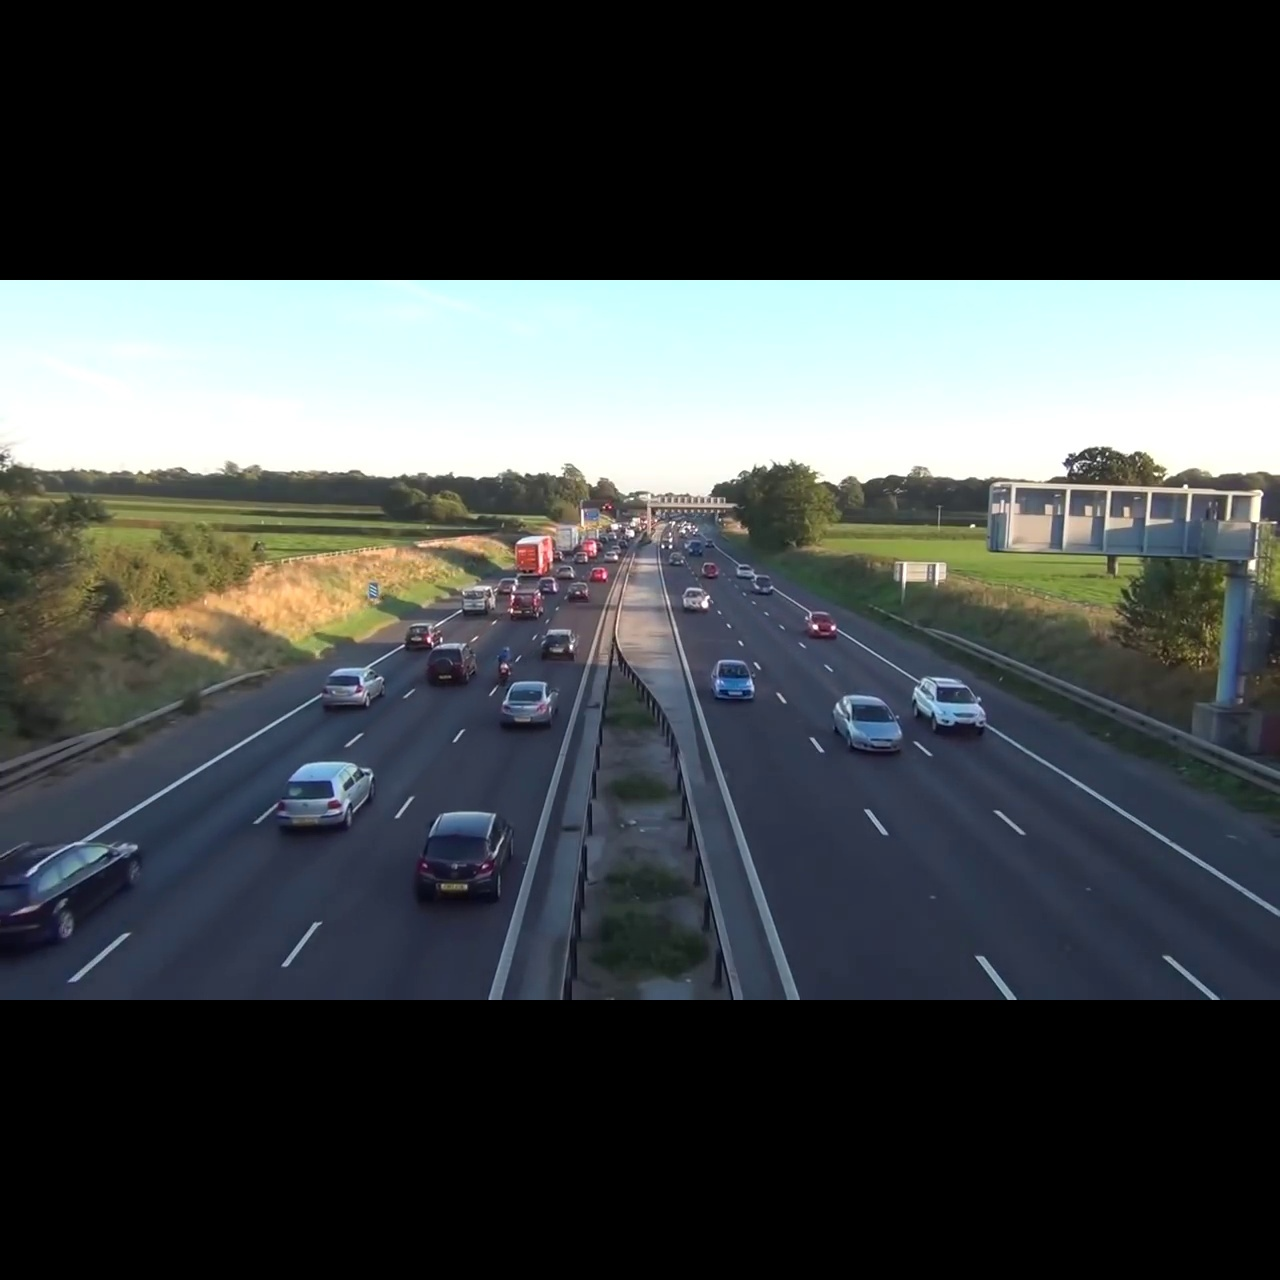vehicle: (1, 833, 150, 958), (409, 806, 522, 908), (275, 758, 382, 835), (828, 689, 905, 758), (910, 670, 988, 736), (496, 676, 564, 730), (319, 666, 389, 710), (423, 642, 481, 686), (708, 658, 760, 704), (542, 628, 581, 663), (508, 588, 545, 621), (459, 585, 498, 617), (802, 608, 842, 639), (406, 622, 444, 653), (681, 586, 713, 612), (750, 574, 776, 597), (566, 581, 591, 602), (700, 561, 720, 579), (734, 561, 754, 577)
